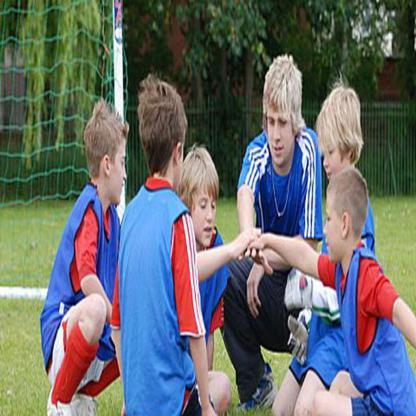face: (269, 99, 296, 167), (192, 182, 217, 247), (325, 185, 346, 262), (324, 129, 349, 183), (107, 141, 127, 205)
